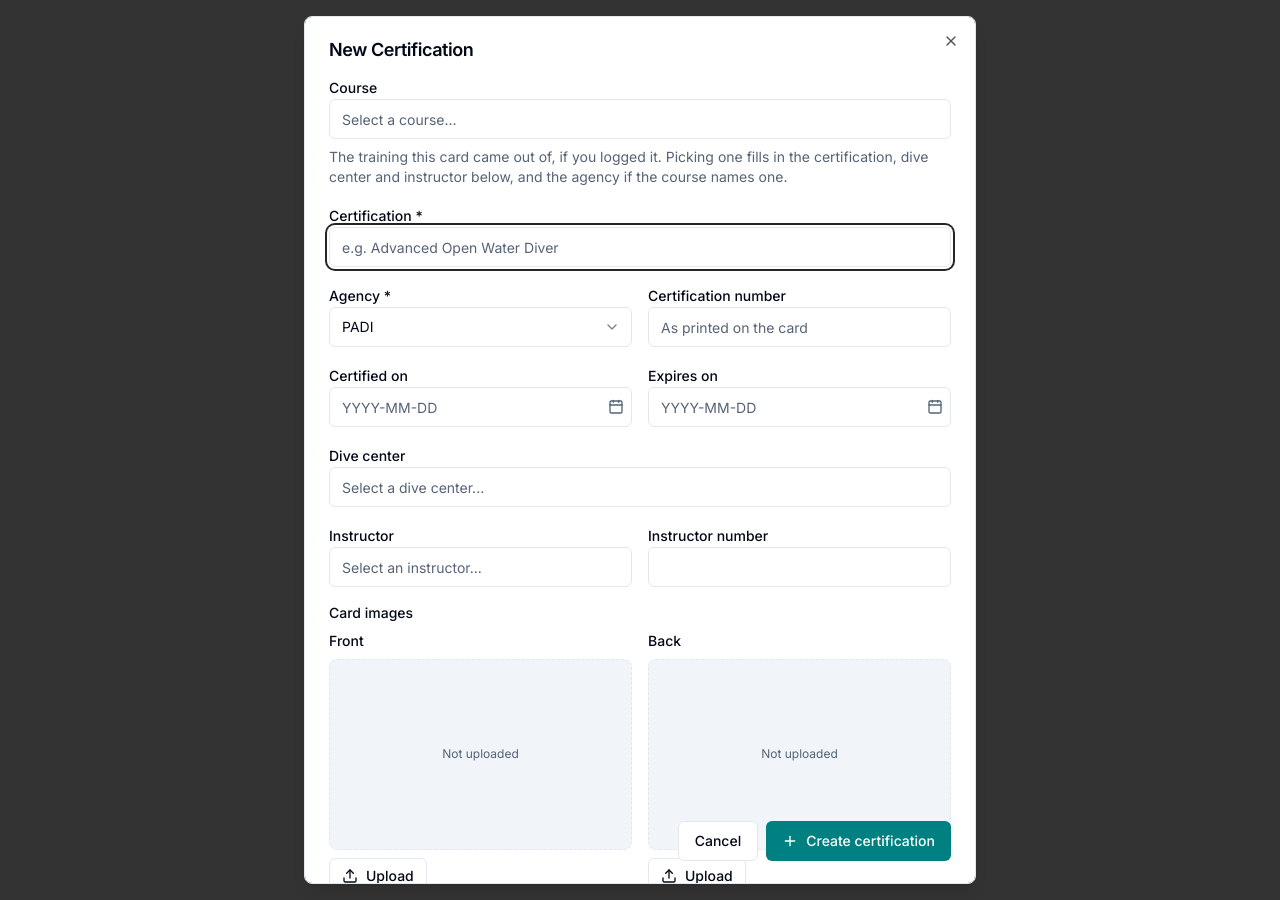
Test case: picking a course fills the card's own fields in › leaves the notes for the diver to write about the card
Click the dropdown labelled "Course".
click(640, 119)  # box [329, 99, 951, 139]
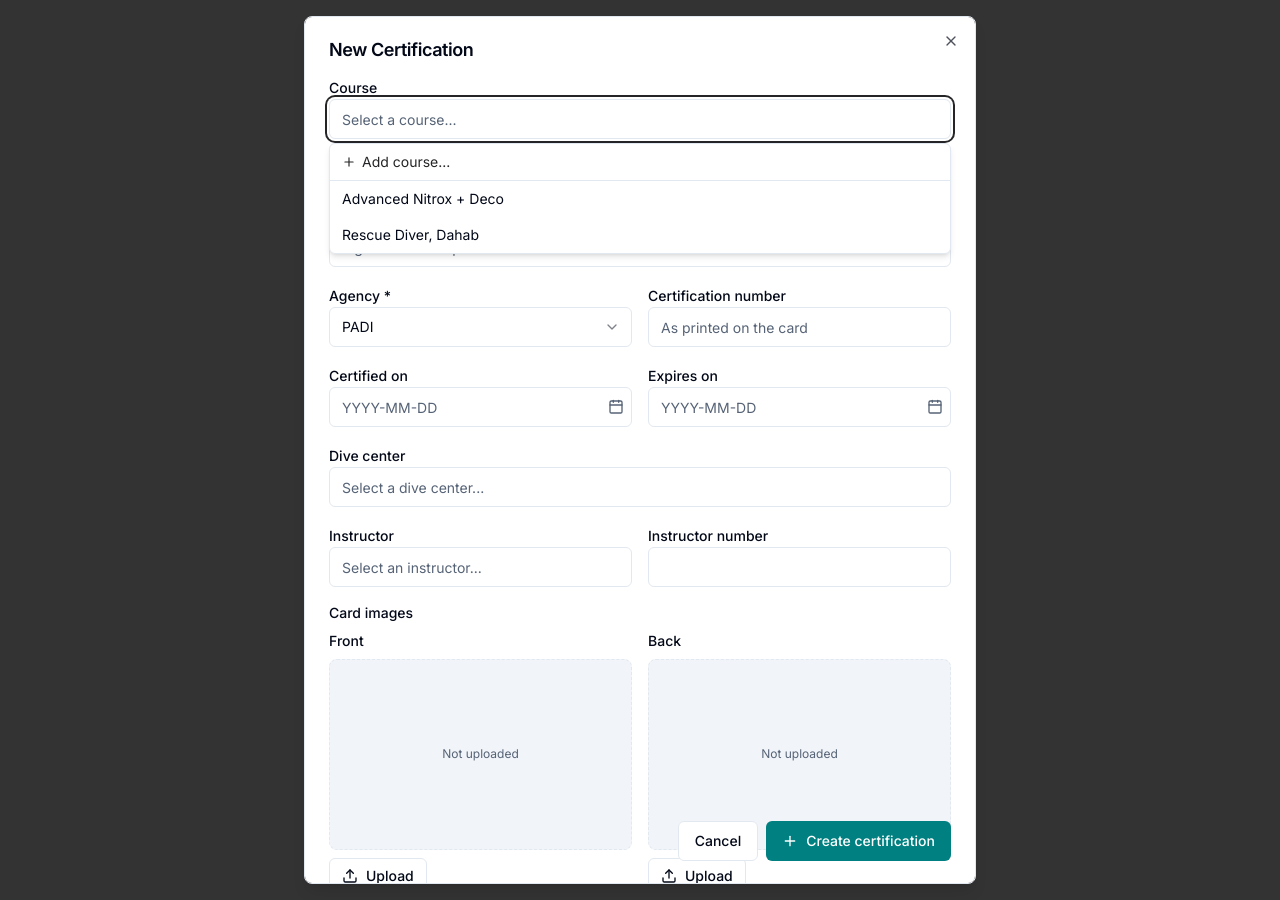
Click the option "Advanced Nitrox + Deco".
click(423, 198)  # box [330, 181, 950, 217]
(page scrolled)
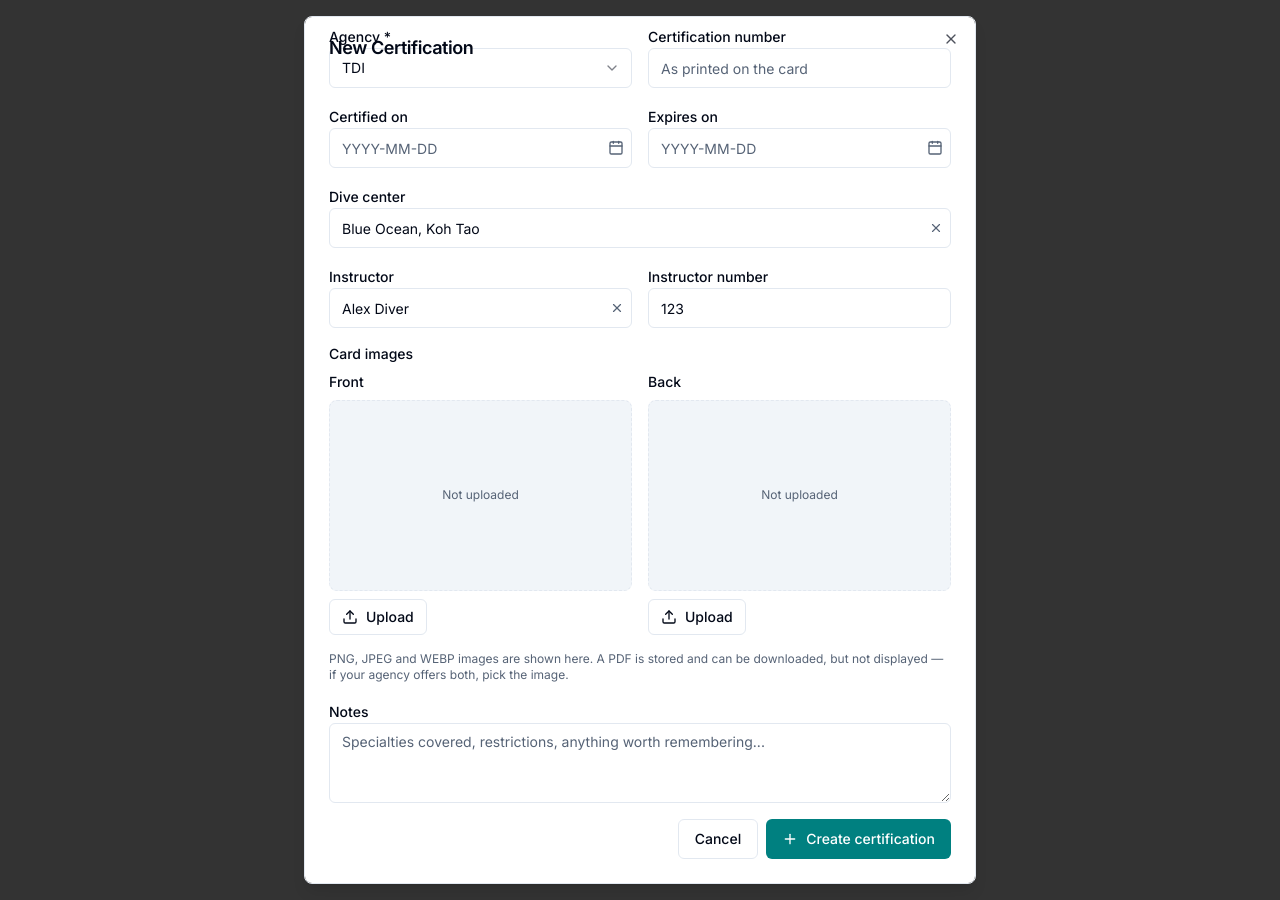
Expected: the dropdown labelled "Dive center" holds "Blue Ocean, Koh Tao", [329, 208, 951, 248]
Expected: the text box labelled "Notes" is empty, [329, 723, 951, 803]
